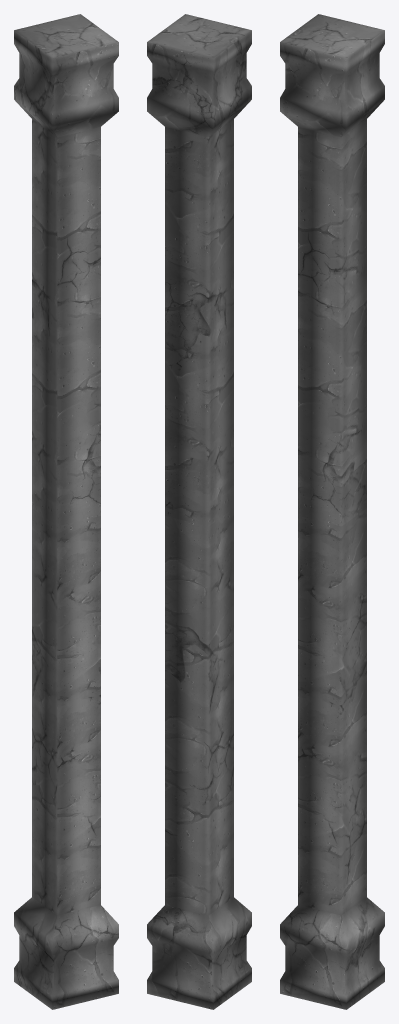
The model's file is Piller2.fbx.
The picture shows the model from 3 angles, left to right: view 1: azimuth 30°, elevation 25°; view 2: azimuth 150°, elevation 25°; view 3: azimuth 330°, elevation 25°; orthographic projection.
Visible parts, largest first — view 1: Cube_026; view 2: Cube_026; view 3: Cube_026.
Boxes of the visible parts, box(x1,y1,x2,y2) form: Cube_026: box(14, 14, 118, 1009); Cube_026: box(147, 14, 251, 1009); Cube_026: box(280, 14, 384, 1009).
Size of the model in its own units: 0.7157 by 9.8 by 0.7157.
